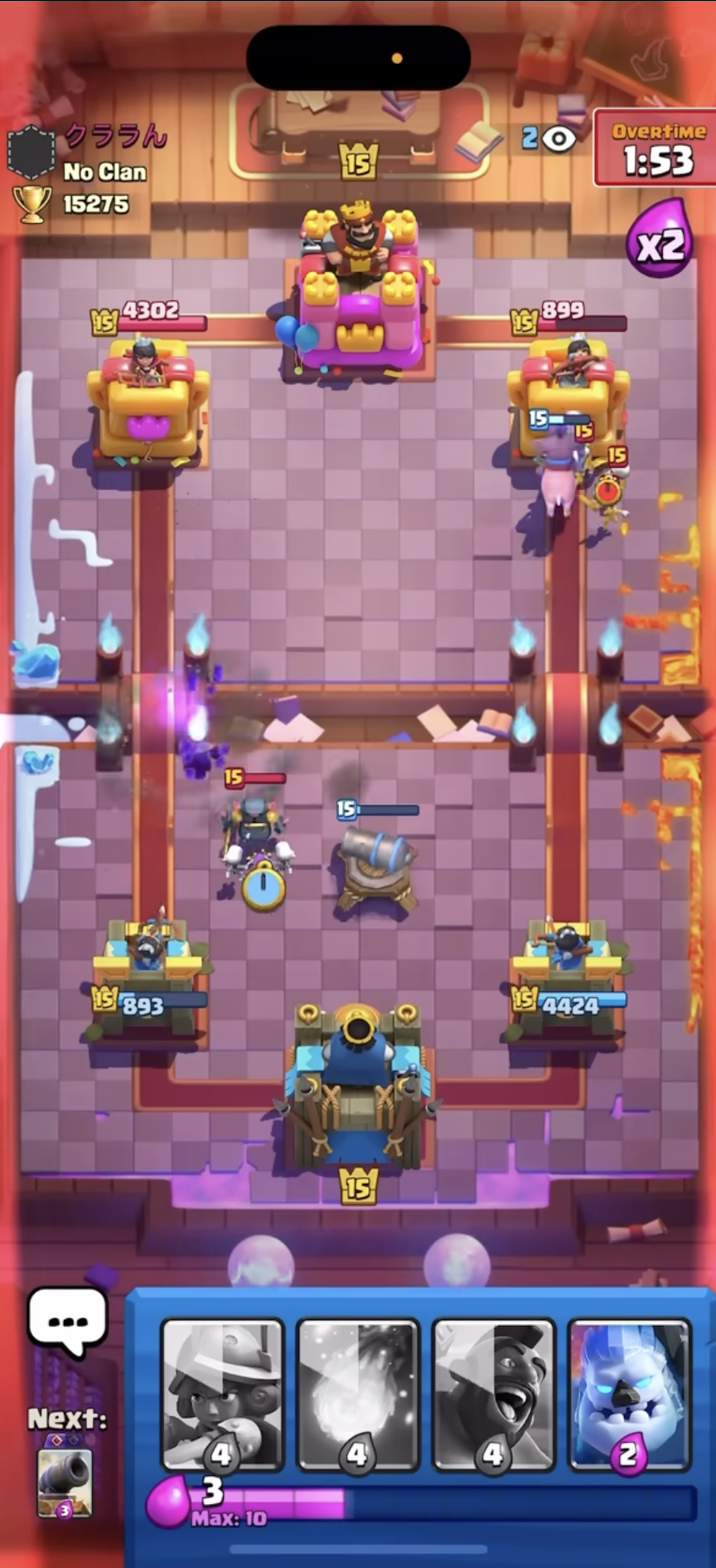cannon: (330, 781, 419, 923)
hog_rider: (526, 409, 593, 512)
skeletons: (267, 841, 297, 884), (219, 845, 248, 882)
